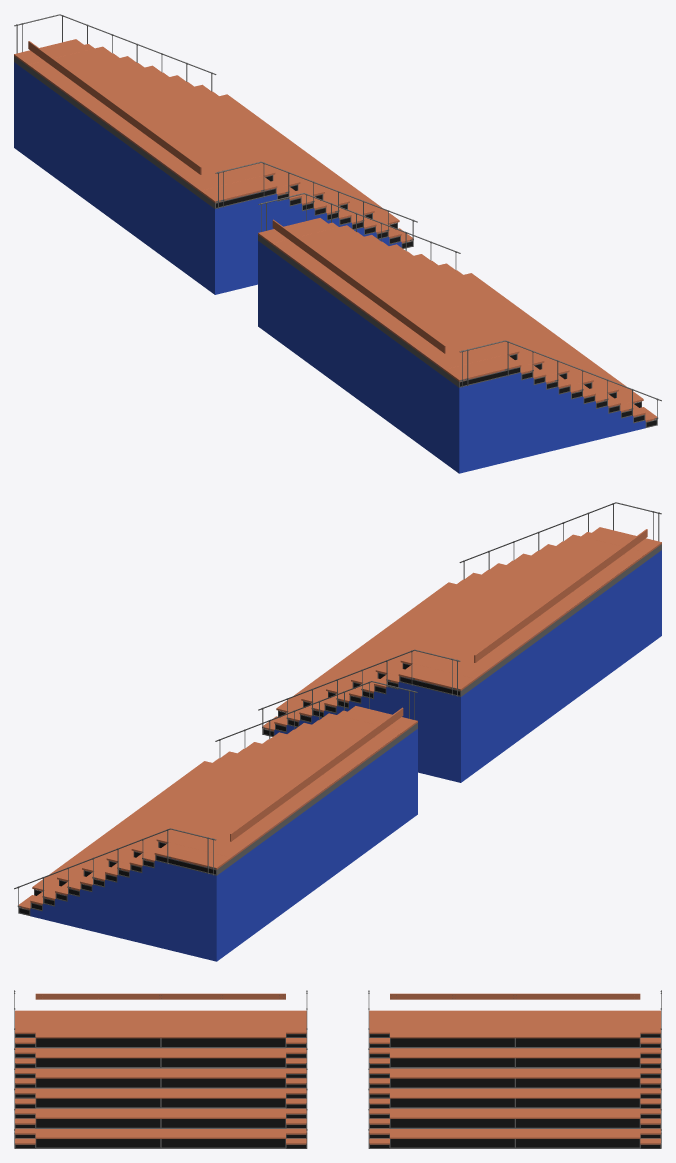
File: railing.fbx
The picture shows the model from 3 angles, top to bottom: view 1: azimuth 30°, elevation 25°; view 2: azimuth 150°, elevation 25°; view 3: azimuth 270°, elevation 25°; orthographic projection. The views are drawn at different scales.
Parts seen in each view (by area): view 1: stairs, railing; view 2: stairs, railing; view 3: stairs, railing.
Boxes of the visible parts, x1,y1,x2,y2 form: stairs: (14, 39, 656, 473); railing: (14, 14, 661, 425); stairs: (19, 527, 661, 961); railing: (14, 502, 661, 913); stairs: (15, 993, 660, 1148); railing: (14, 990, 661, 1148).
Size of the model in its own units: 814 by 471 by 3108.
